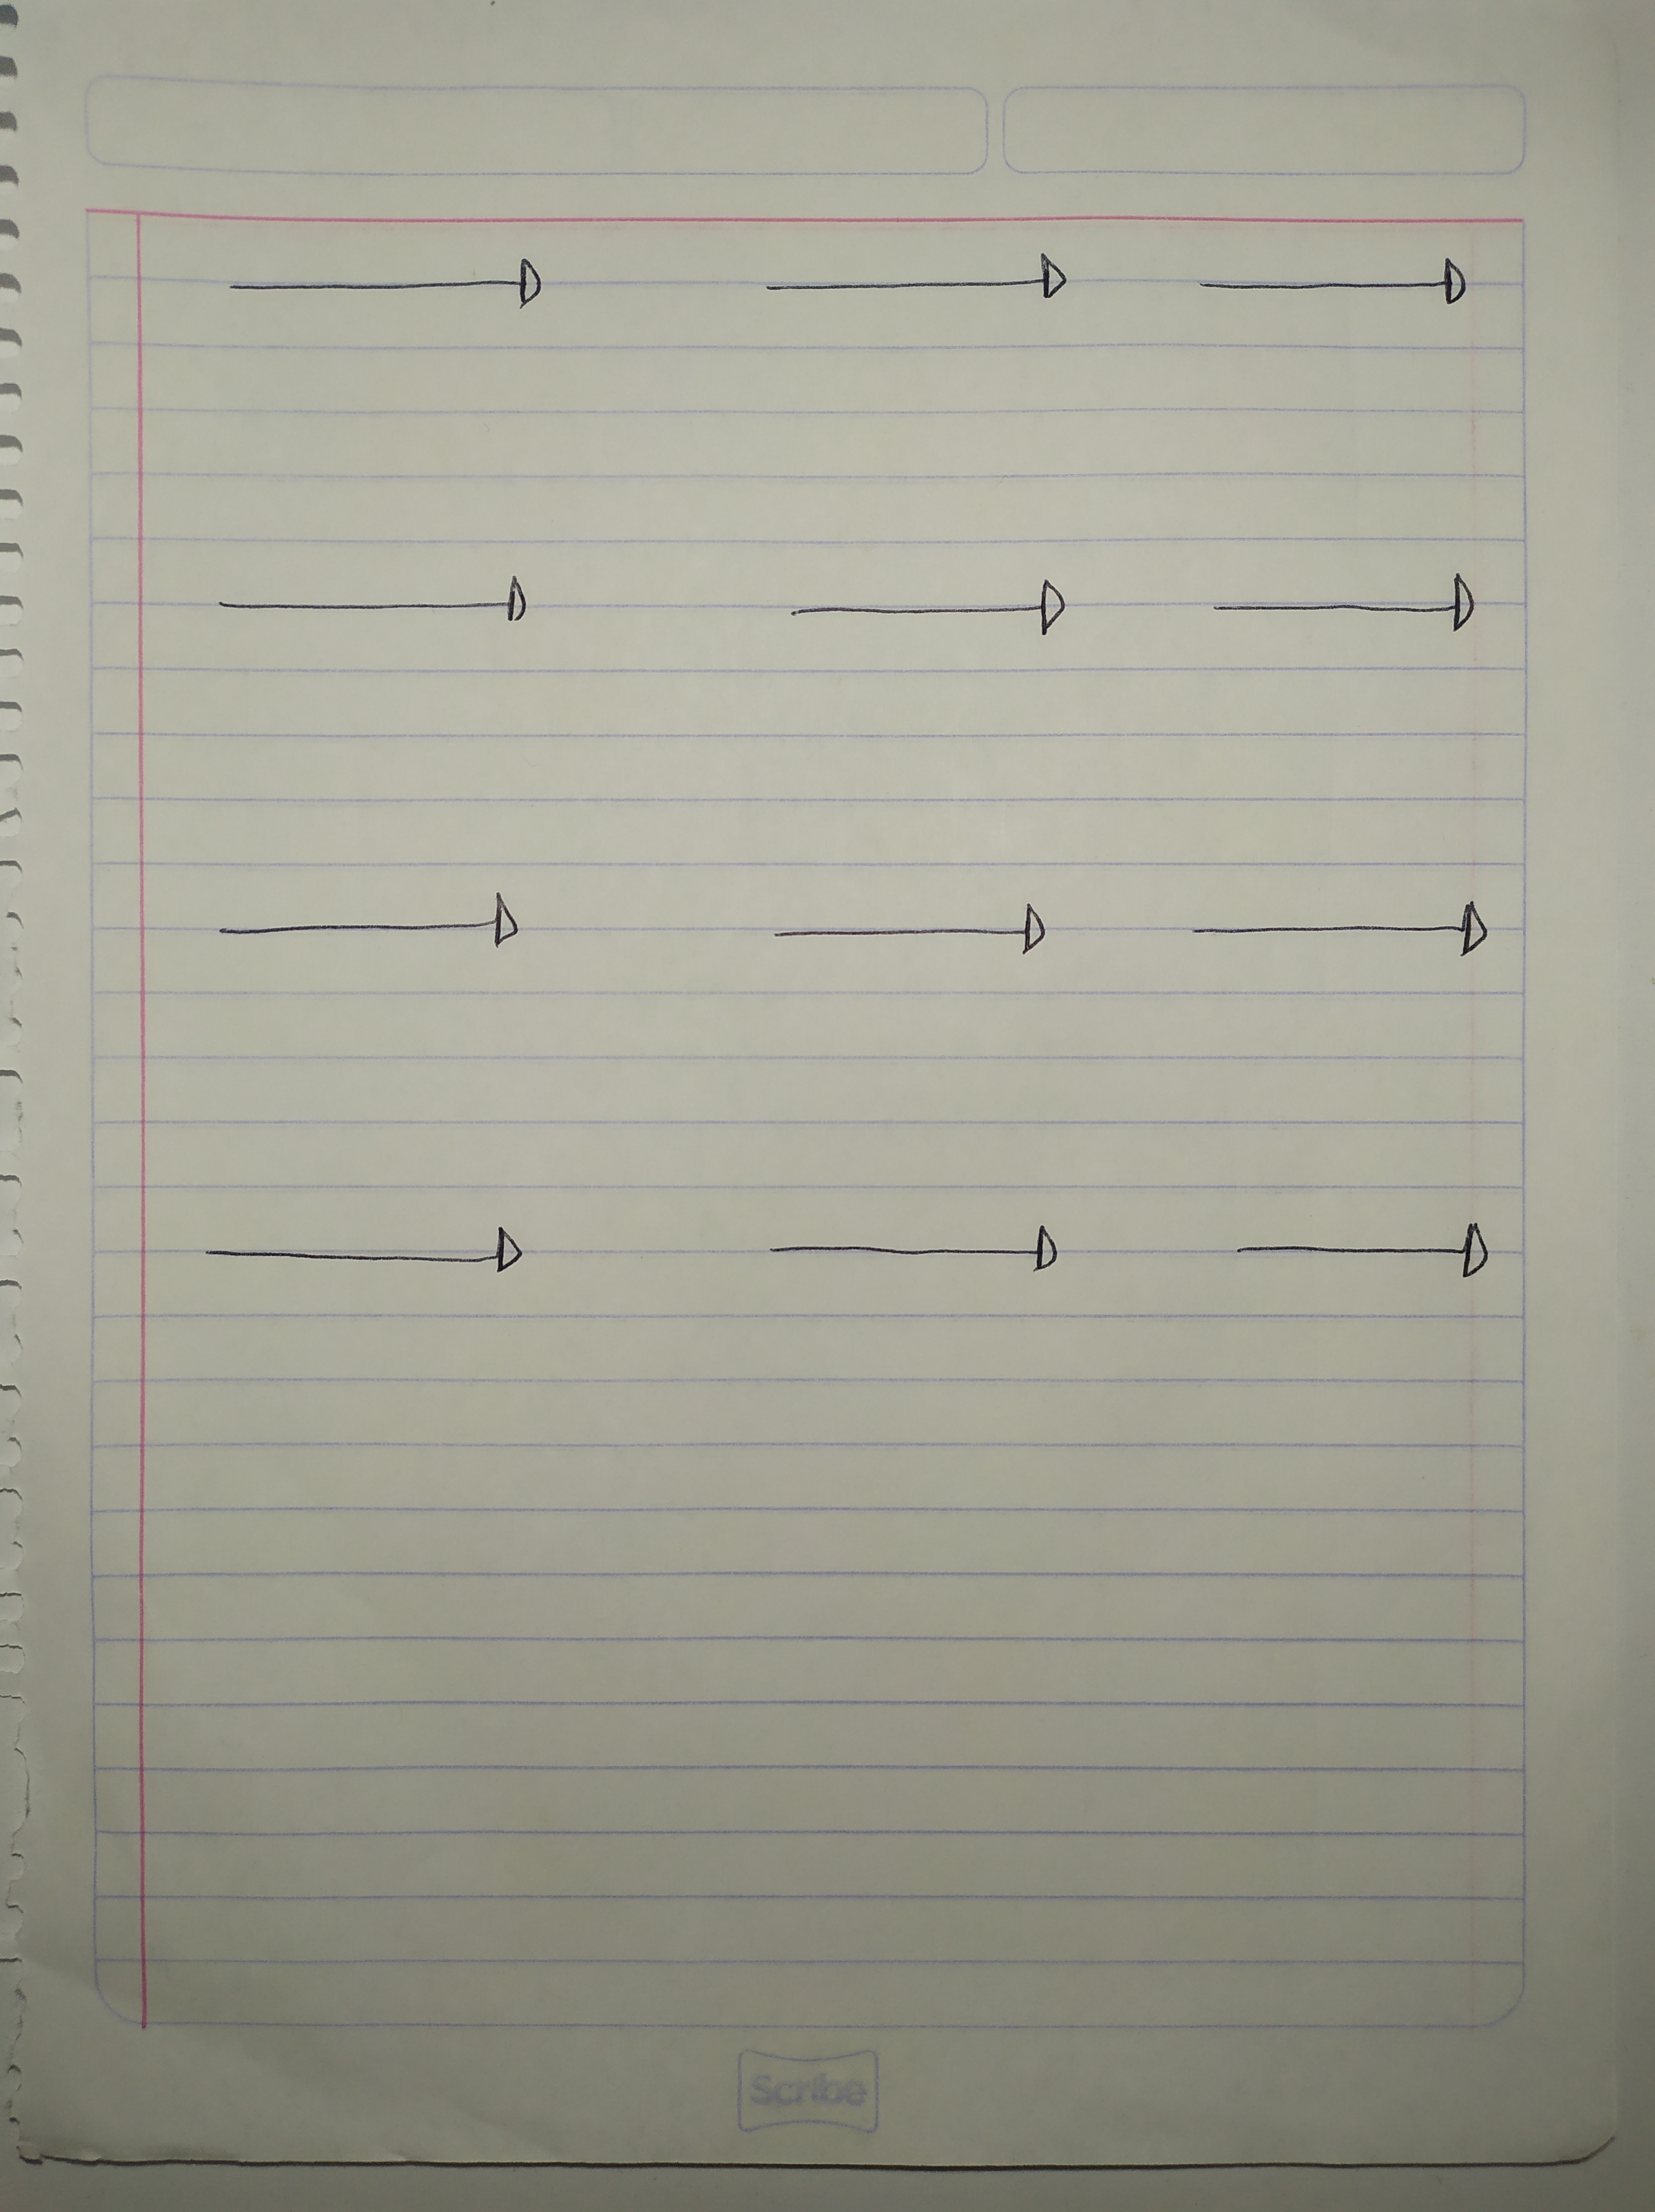arrow_line_right: (176, 553, 555, 678), (1184, 565, 1516, 685), (186, 1204, 563, 1303), (746, 878, 1074, 990), (749, 565, 1087, 674), (734, 235, 1099, 332), (1215, 1194, 1525, 1307), (207, 240, 579, 332), (741, 1202, 1078, 1296), (1166, 879, 1504, 971), (186, 879, 556, 961), (1175, 238, 1485, 328)
